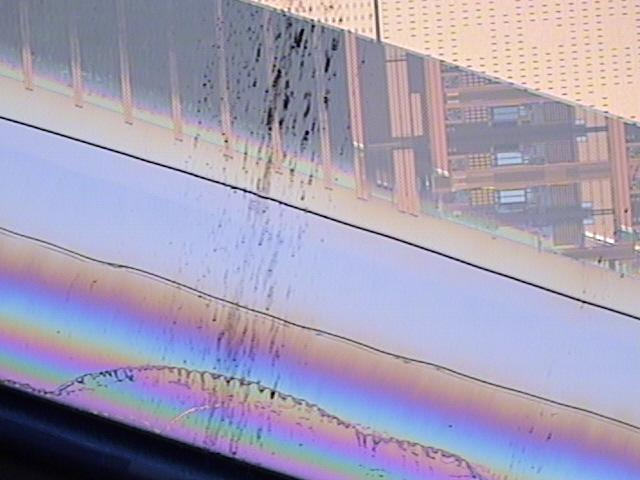PO CONTAMINATION: (2, 1, 640, 480)
